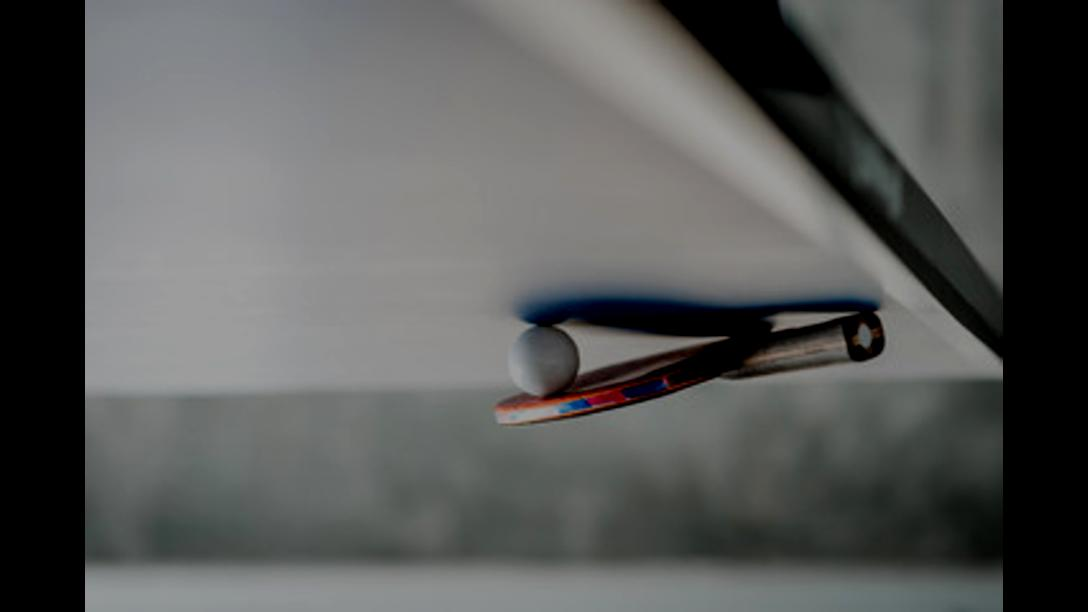Table-Tennis-Ball: (510, 327, 580, 395)
